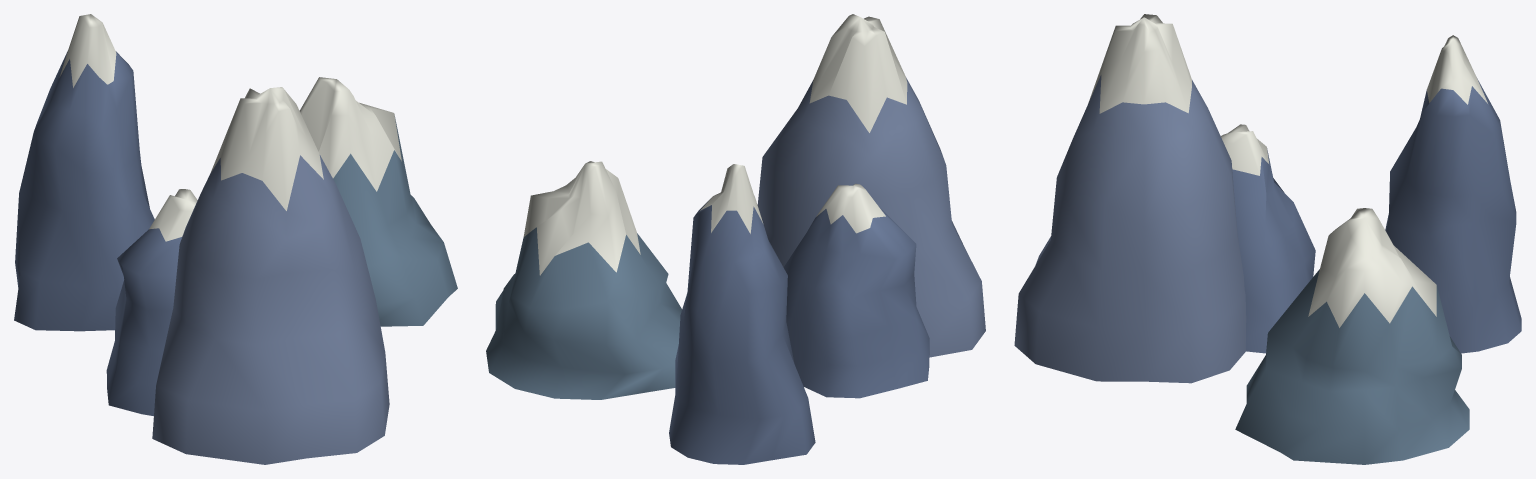
File: Mountain.fbx
3 views of the same model, side by side, from view 1: azimuth 30°, elevation 25°; view 2: azimuth 150°, elevation 25°; view 3: azimuth 270°, elevation 25° (orthographic). The views are drawn at different scales.
Visible parts, largest first — view 1: pSphere3, high_mountain, mountain, pSphere2; view 2: pSphere3, mountain, high_mountain, pSphere2; view 3: pSphere3, mountain, high_mountain, pSphere2.
Boxes of the visible parts, x1,y1,x2,y2 form: pSphere3: [152, 87, 389, 464]; high_mountain: [14, 14, 154, 331]; mountain: [299, 77, 457, 326]; pSphere2: [106, 189, 197, 416]; pSphere3: [757, 14, 985, 357]; mountain: [486, 161, 681, 399]; high_mountain: [669, 164, 815, 464]; pSphere2: [783, 183, 929, 398]; pSphere3: [1014, 14, 1246, 383]; mountain: [1235, 208, 1469, 464]; high_mountain: [1385, 35, 1521, 353]; pSphere2: [1221, 124, 1315, 353].
Size of the model in its own units: 43.18 by 34.07 by 49.14.
